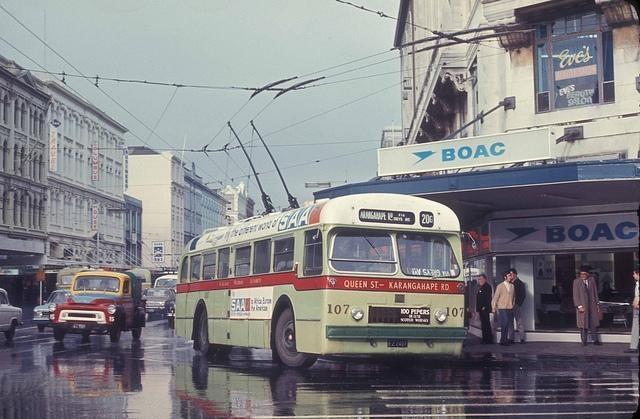bus: (175, 193, 477, 369)
car: (49, 266, 147, 344), (34, 291, 70, 328), (0, 288, 23, 343), (142, 288, 176, 320), (152, 272, 178, 294)
truck: (48, 269, 148, 340)
